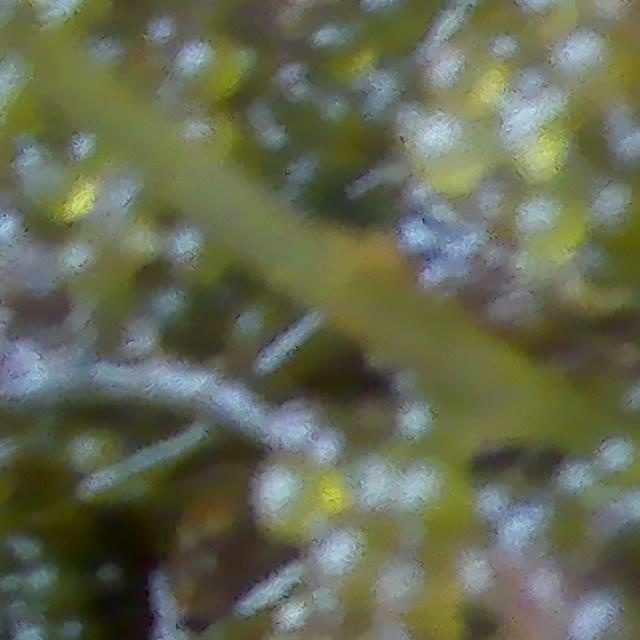SeaGrape: (249, 453, 349, 548), (395, 469, 481, 532), (190, 34, 257, 104), (564, 39, 629, 101), (599, 169, 640, 239)
